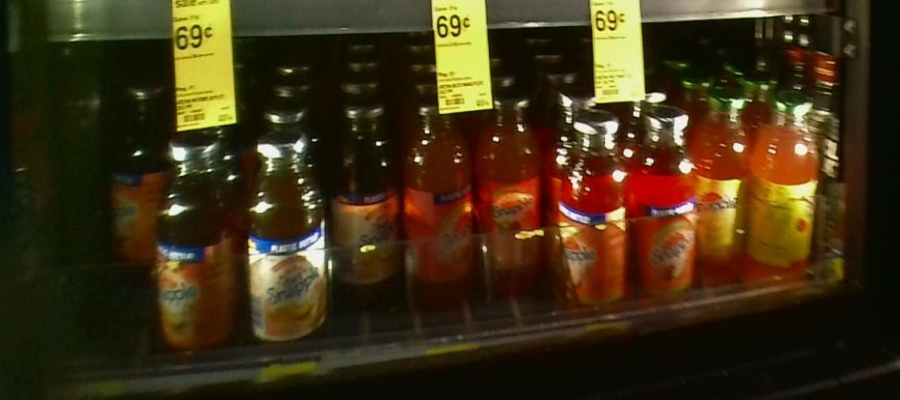bottle: (157, 130, 242, 351), (243, 129, 327, 349), (402, 97, 471, 308), (632, 101, 701, 303), (560, 112, 629, 311), (475, 92, 542, 295), (331, 99, 397, 297), (754, 96, 819, 278), (104, 83, 157, 268), (705, 86, 749, 283)
